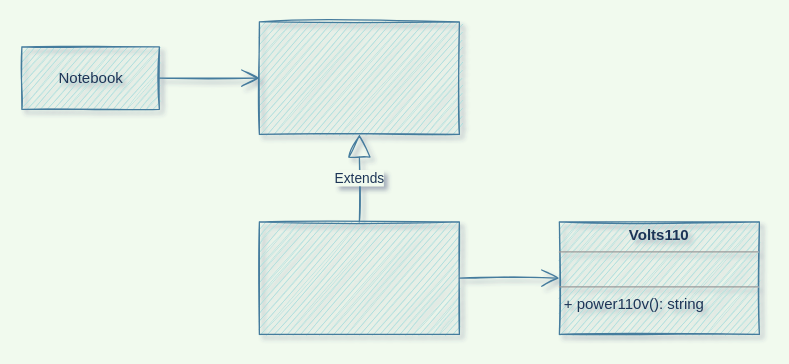
Some shapes in this 789 by 364 pixel diagram are drawn without their labels. The shapes that lost their labels are listed below. From the top down, each one's centre as x and y in pixels, then its label:
the point at 358,77: Volts220 + use220(): string
the point at 358,277: Adapter - current: Volts110 + Adapter(current) + use220 : string
